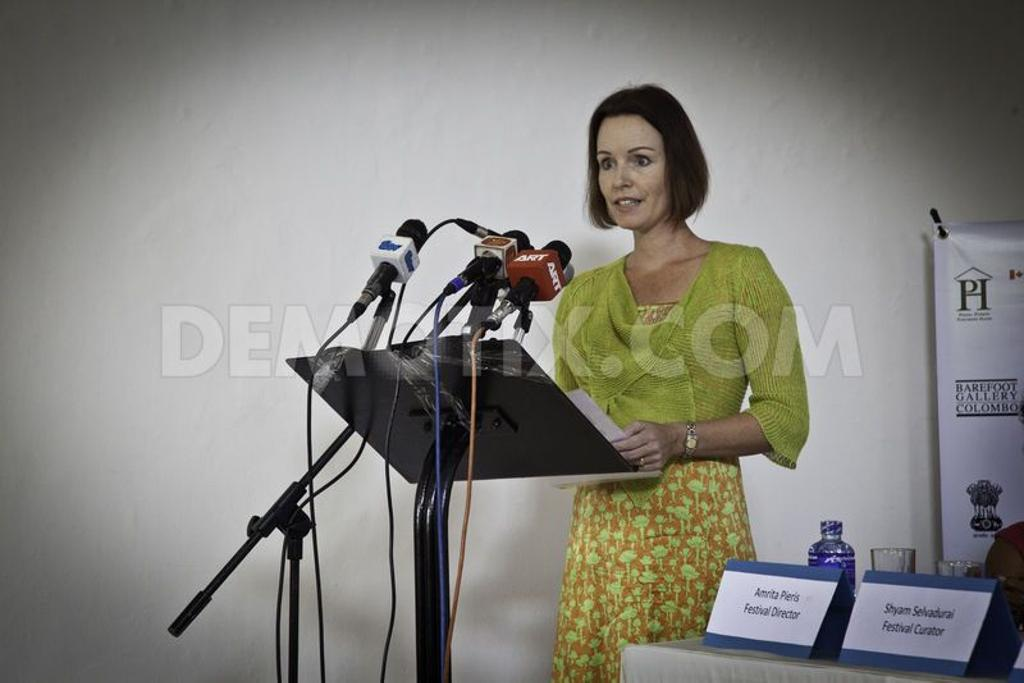face: (597, 117, 675, 229)
